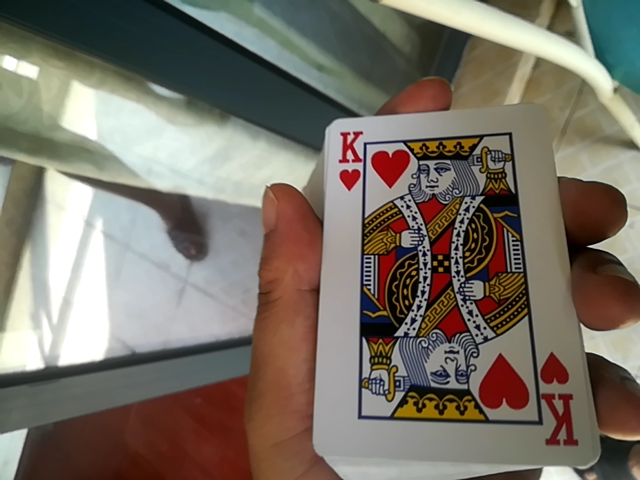hx k: (305, 115, 630, 476)
